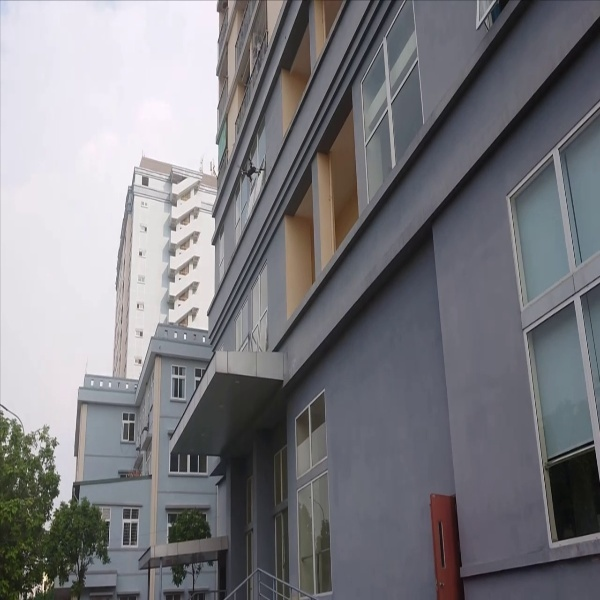drone: (235, 152, 269, 185)
